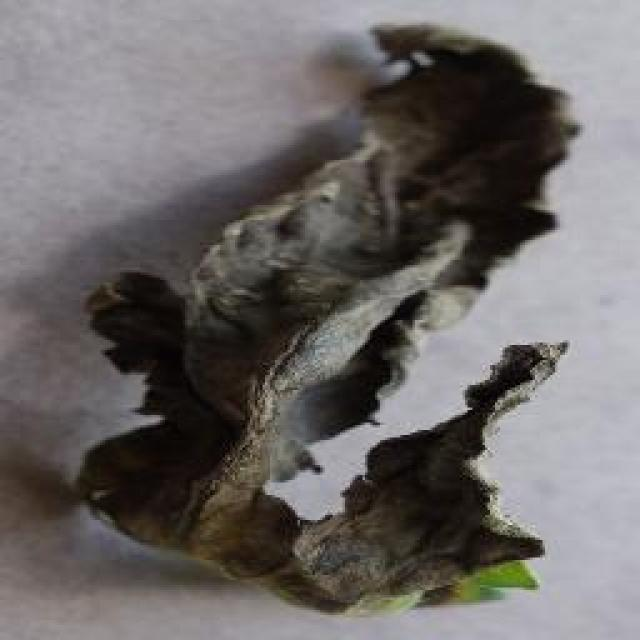Tomato Early blight leaf: (72, 23, 575, 610)
